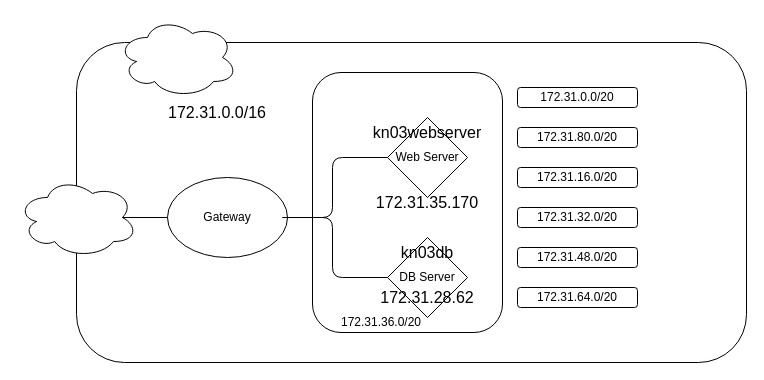
Image size: 764x380. Some labels were removed from this diagram. The shapes that lost their labels are listed below. From the top down, each one's centre as x and y in pixels, then its label:
[177,57]: VPC
[77,217]: Internet
